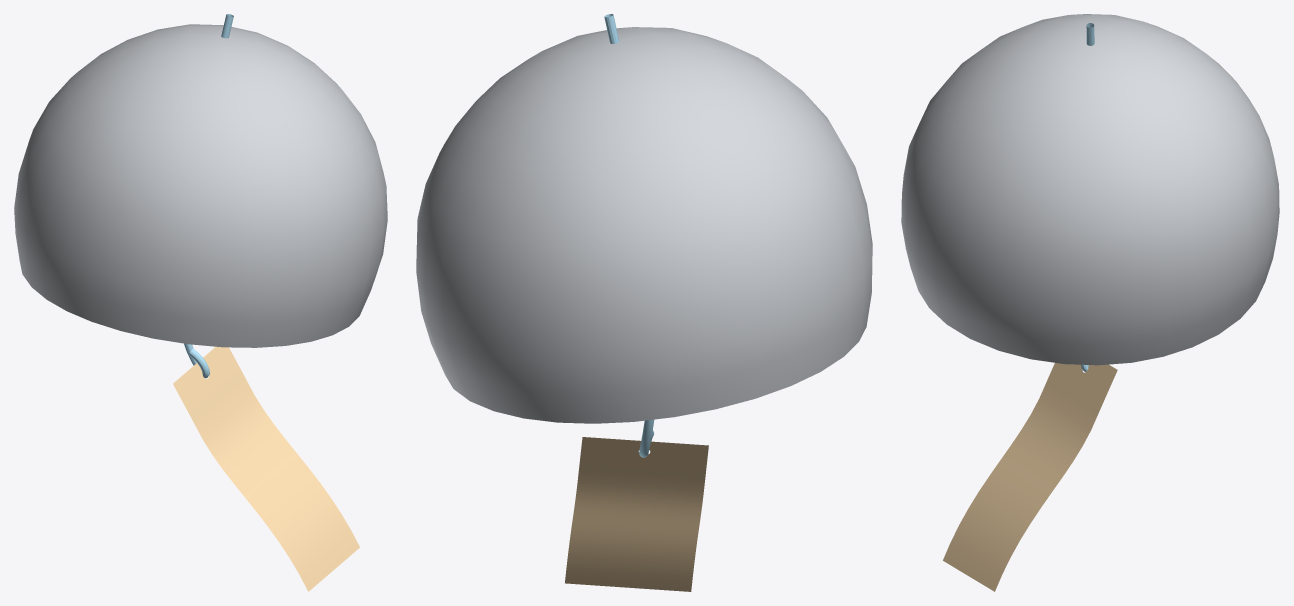
The model's file is wind_chime.glb.
The picture shows the model from 3 angles, left to right: view 1: azimuth 30°, elevation 25°; view 2: azimuth 150°, elevation 25°; view 3: azimuth 270°, elevation 25°; orthographic projection. The views are drawn at different scales.
Parts seen in each view (by area): view 1: Cube.900; view 2: Cube.900; view 3: Cube.900.
Part boxes in pixels (left/top/right/bottom): Cube.900: left=14, top=14, right=387, bottom=591; Cube.900: left=416, top=14, right=872, bottom=591; Cube.900: left=901, top=14, right=1279, bottom=591.
Size of the model in its own units: 1.43 by 2.23 by 1.43.
2 materials, 1 textured.
